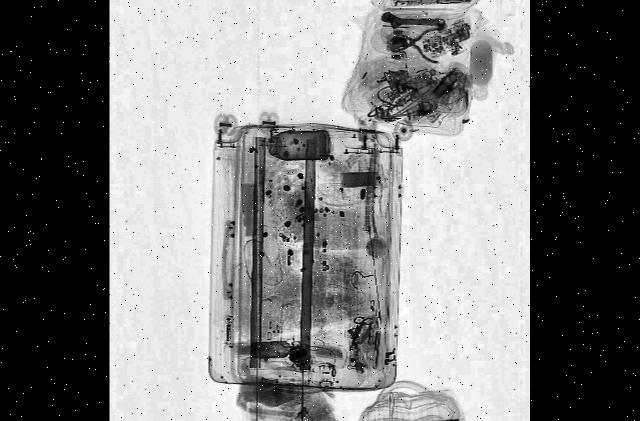Pliers: (394, 20, 443, 63)
